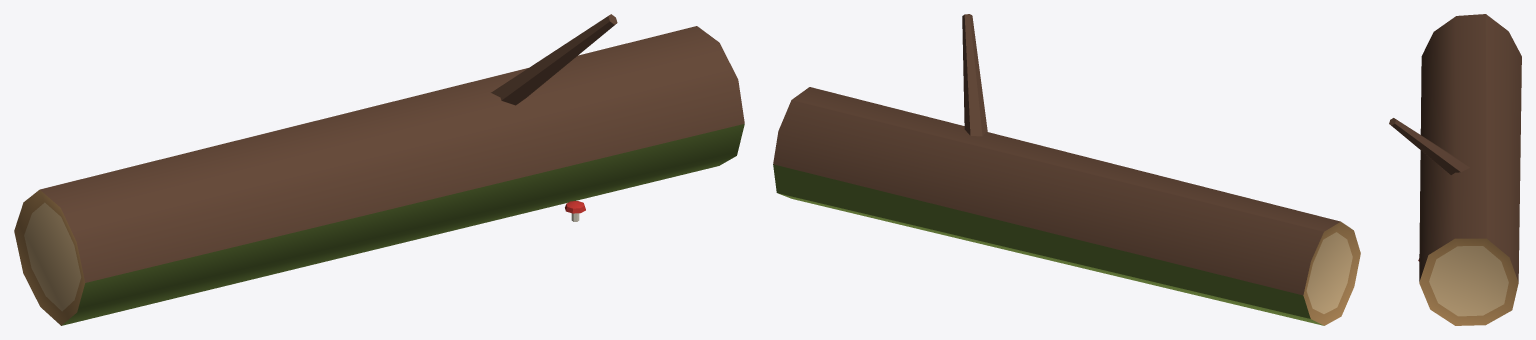
Rendered from SM_Fallen_Log_Mossy.glb.
3 renders of one model, left to right at view 1: azimuth 30°, elevation 25°; view 2: azimuth 150°, elevation 25°; view 3: azimuth 270°, elevation 25°, orthographic. The views are drawn at different scales.
Parts seen in each view (by area): view 1: SM_Fallen_Log_Mossy; view 2: SM_Fallen_Log_Mossy; view 3: SM_Fallen_Log_Mossy.
Part boxes in pixels (bbox=[...]): SM_Fallen_Log_Mossy: bbox=[14, 14, 744, 325]; SM_Fallen_Log_Mossy: bbox=[773, 14, 1360, 325]; SM_Fallen_Log_Mossy: bbox=[1389, 14, 1521, 325].
Size of the model in its own units: 2.4 by 0.7658 by 0.595.
Materials: 1 (1 with a texture image).
